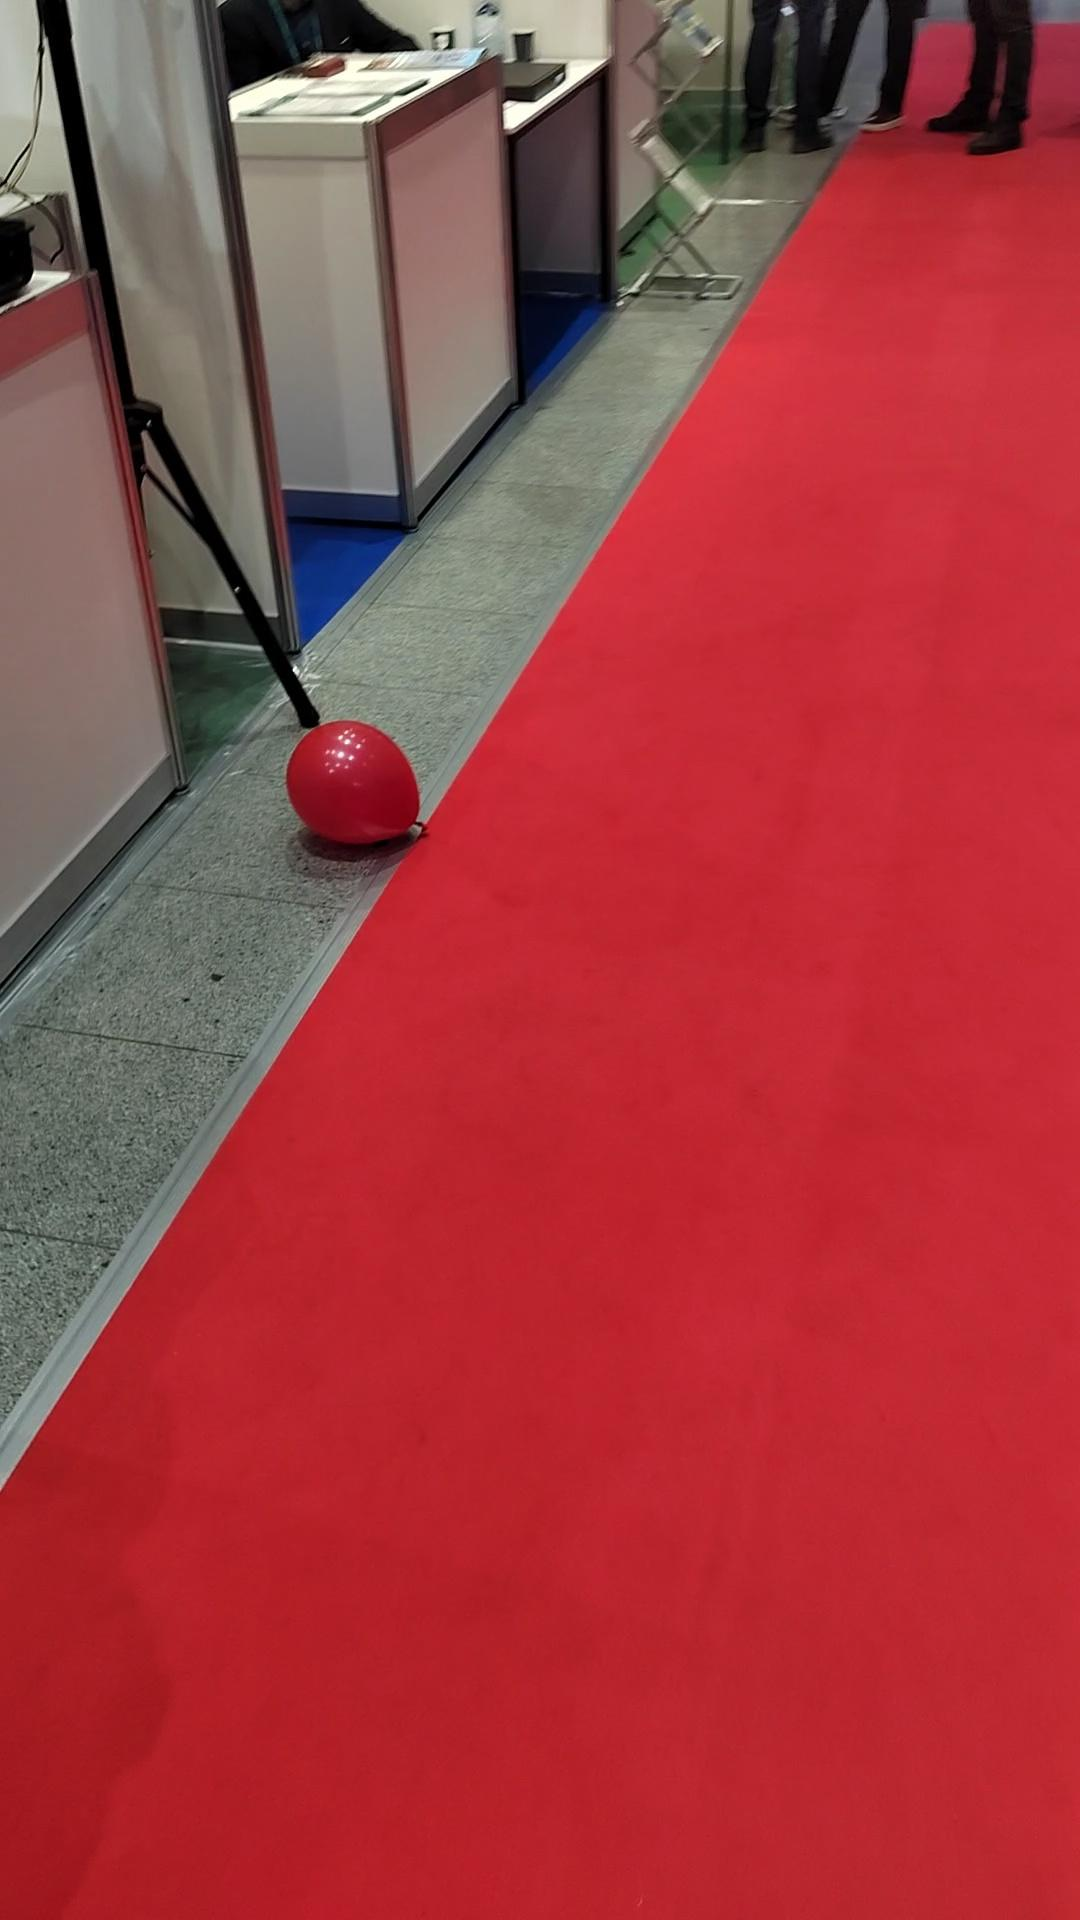red: (280, 721, 427, 868)
